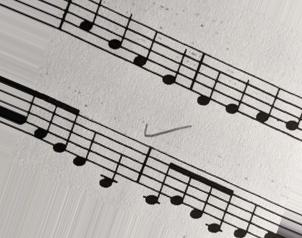A: (76, 1, 103, 50)
D: (194, 51, 221, 108), (72, 113, 100, 167), (231, 186, 259, 238)
E: (160, 33, 188, 88), (224, 63, 250, 117)
F: (253, 76, 283, 133), (132, 20, 159, 80)
G: (106, 7, 135, 63), (283, 90, 301, 141)
